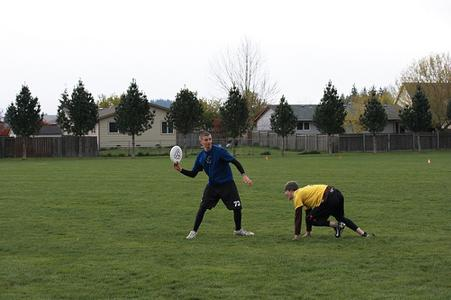person: (171, 130, 258, 240)
